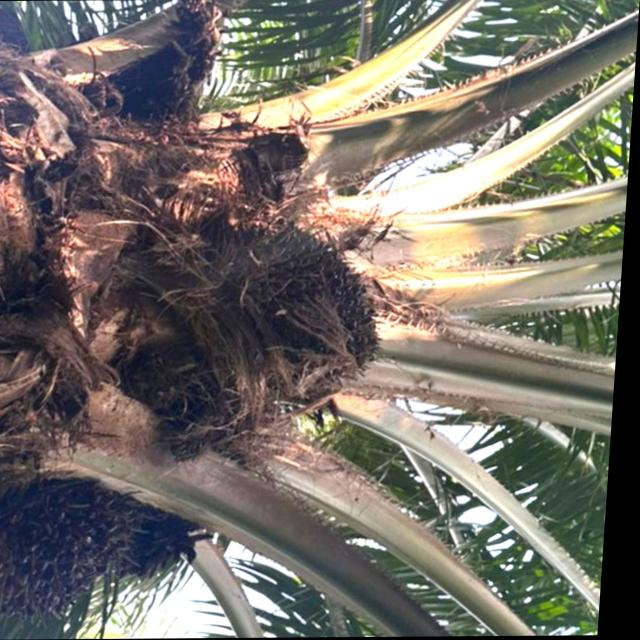unripe: (201, 205, 394, 410), (0, 465, 150, 621)
